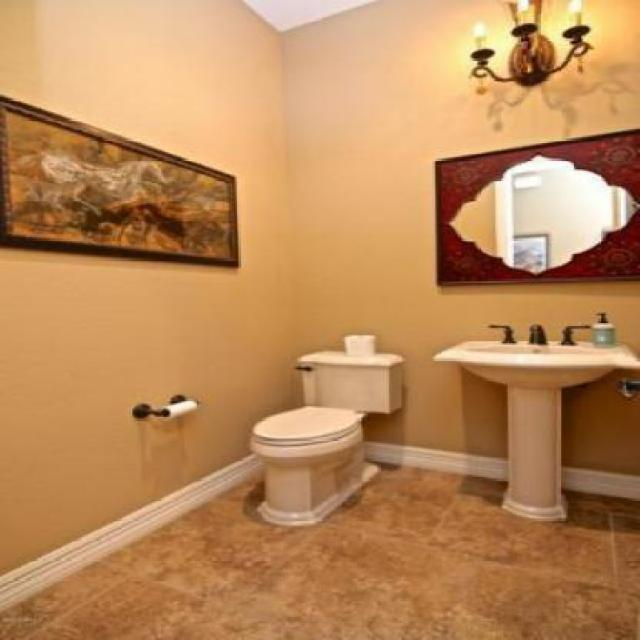Floor: (0, 459, 638, 639)
